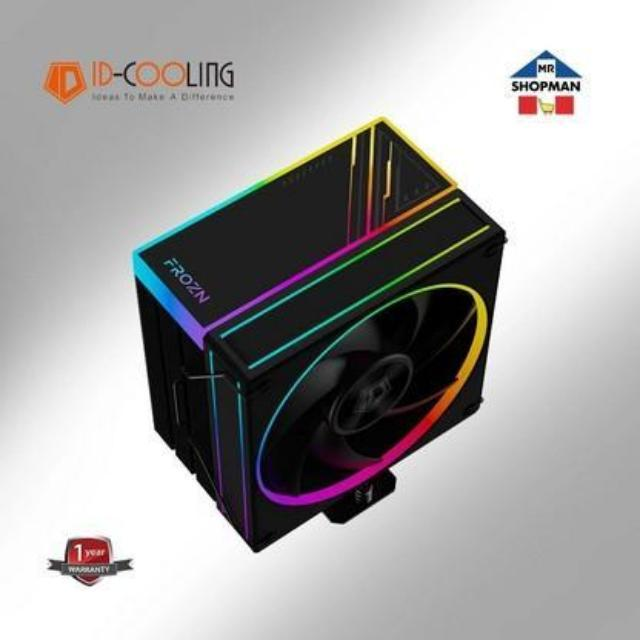CPU_Fan: (124, 108, 513, 560)
